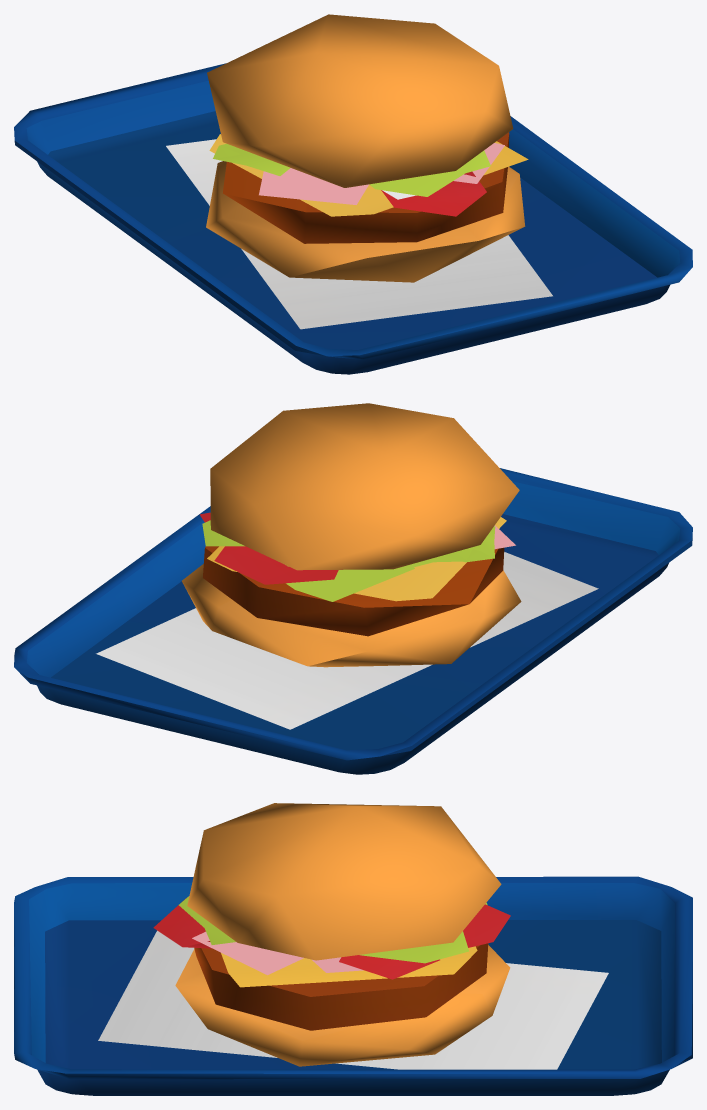
Rendered from Tray with Burger.fbx.
3 views of the same model, one above another, from view 1: azimuth 30°, elevation 25°; view 2: azimuth 150°, elevation 25°; view 3: azimuth 270°, elevation 25° (orthographic).
Parts seen in each view (by area): view 1: Tray with Burger; view 2: Tray with Burger; view 3: Tray with Burger.
Part boxes in pixels (left/top/right/bottom): Tray with Burger: left=14, top=14, right=692, bottom=374; Tray with Burger: left=14, top=403, right=692, bottom=774; Tray with Burger: left=14, top=803, right=692, bottom=1095.
Bounding box in the file's own units: 0.548 × 0.241 × 0.7968.
